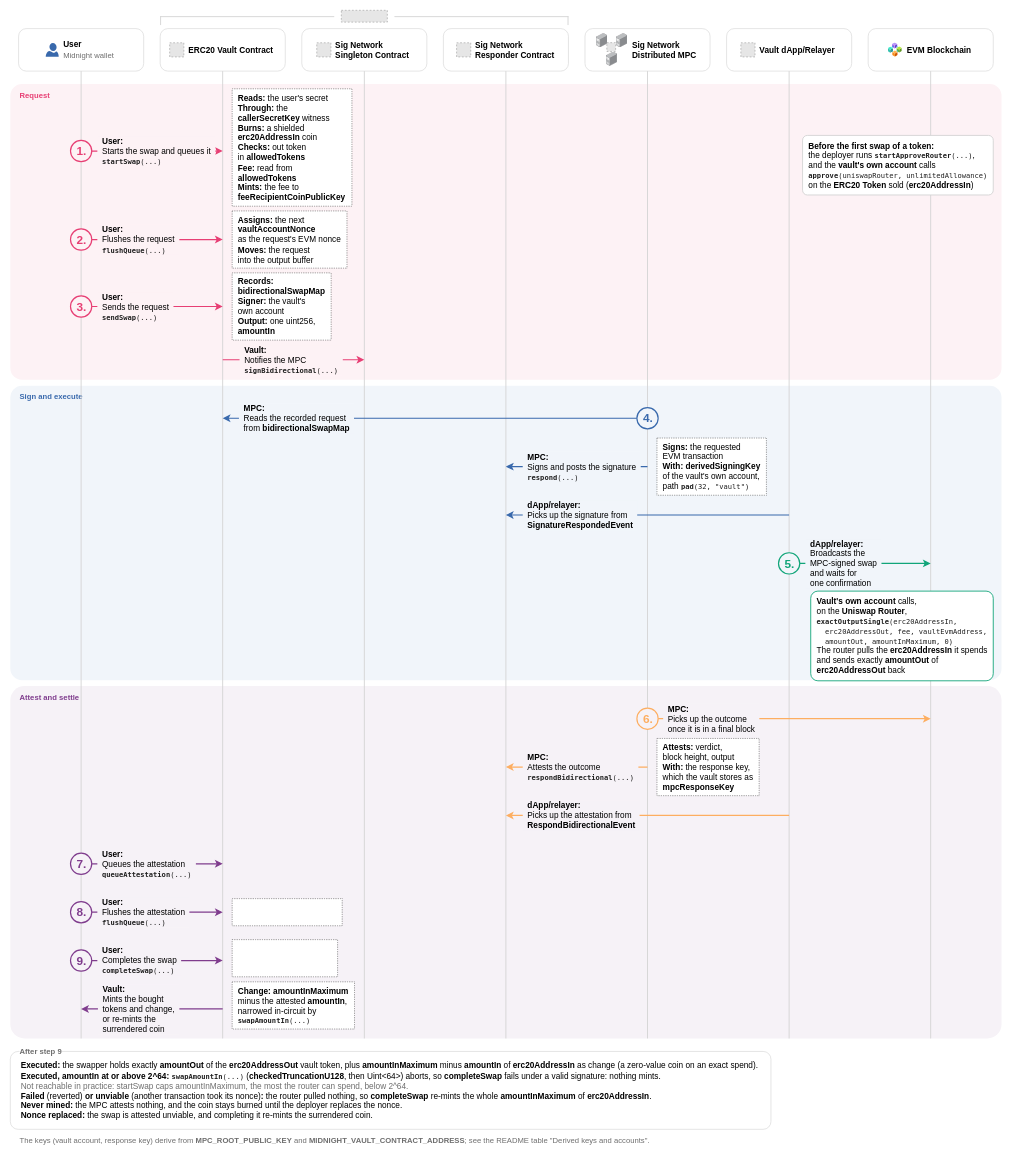
Image size: 1012x1156. Some labels were removed from this diagram. Grey dashed boxes stand in for pictures. The centre of each missing label's shape, as x and y in pixels:
Moves: the attestation into the output buffer: the point at 287,912
With: the request id, the 32-byte output, a mint nonce, a change nonce: the point at 285,958
